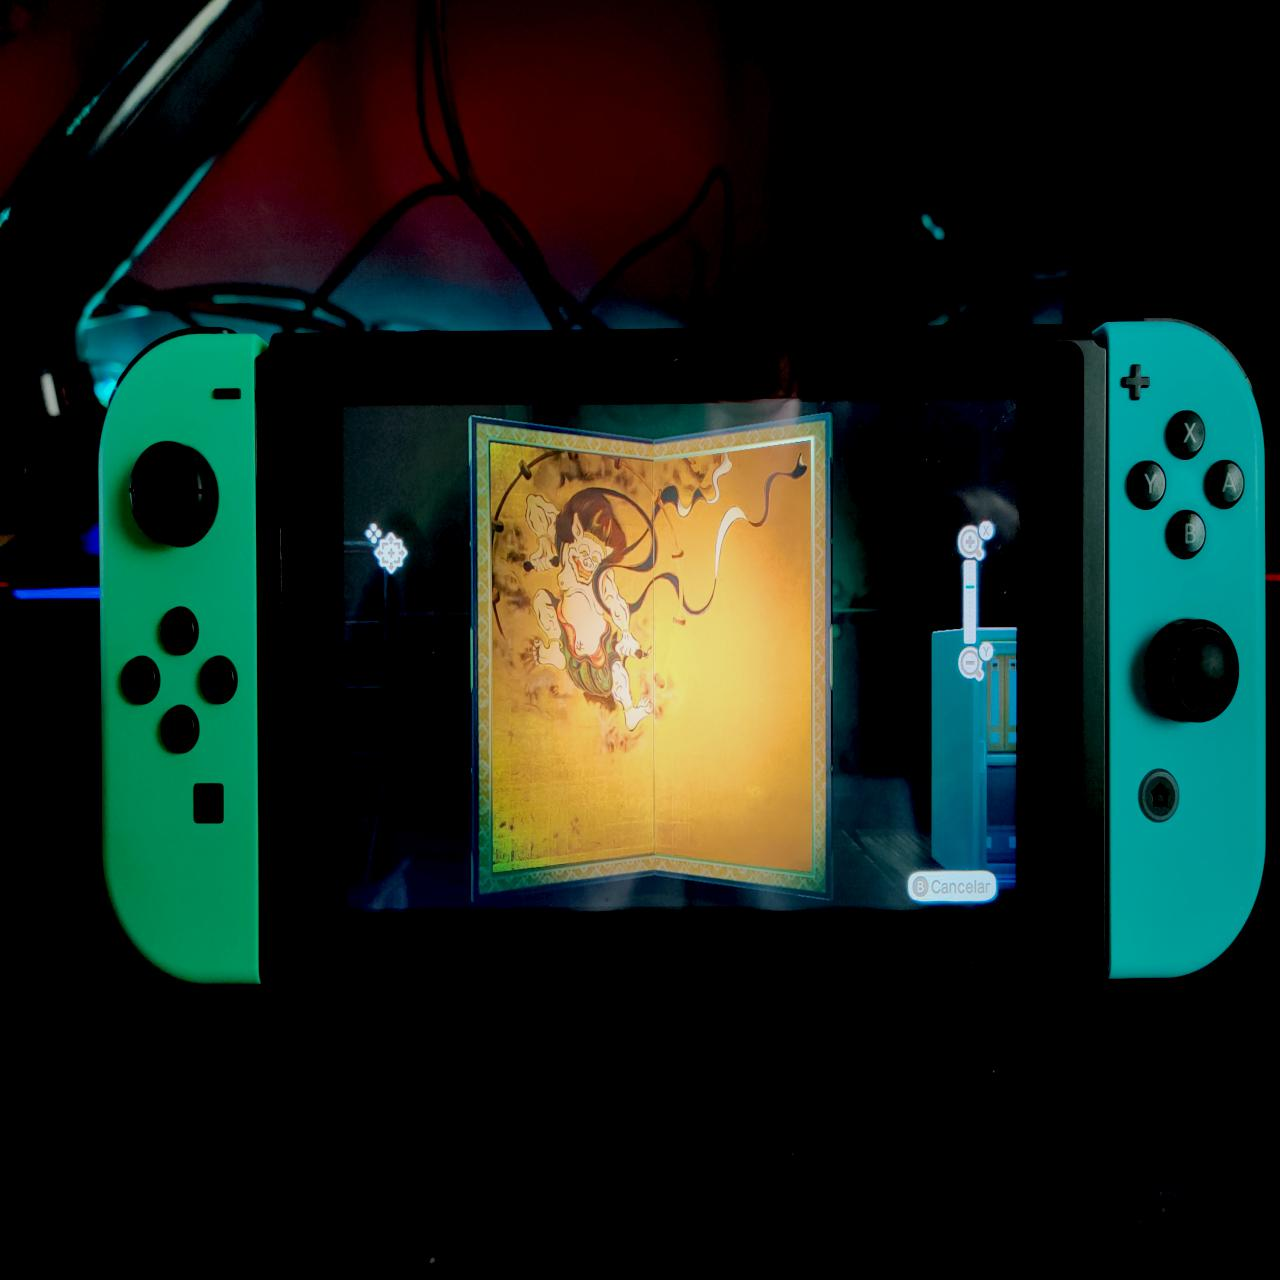Raijin: (471, 418, 832, 898)
